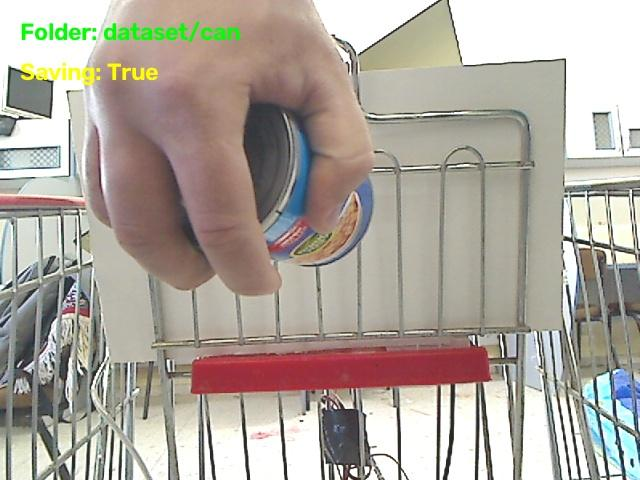can: (244, 104, 372, 265)
